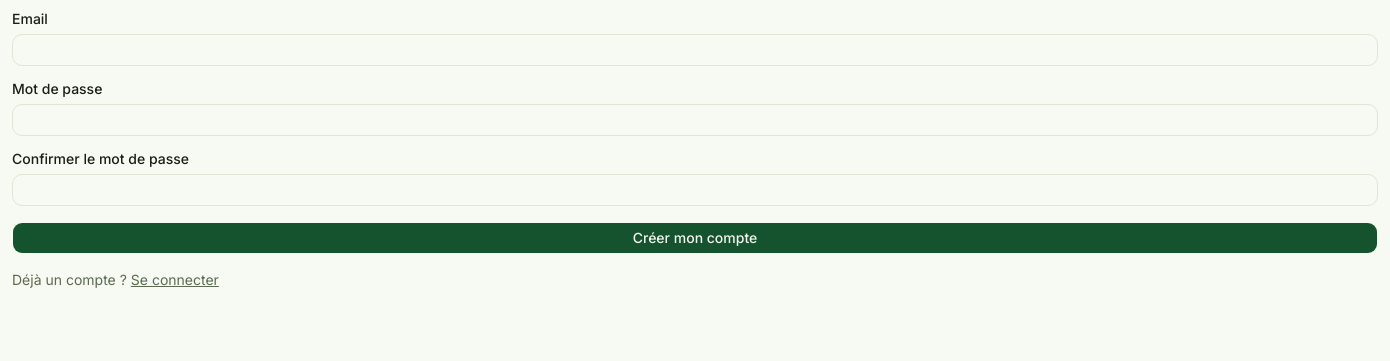
SignupForm › affiche les erreurs de validation
Click the button "Créer mon compte".
click(695, 238)  # box top-left (12, 222), bottom-right (1378, 254)
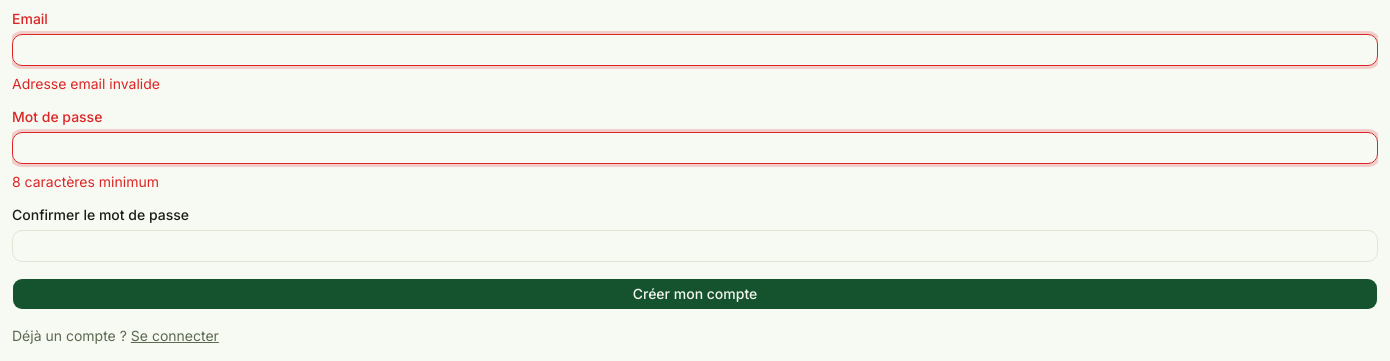
Result: the text "Adresse email invalide" is shown at top-left (12, 75), bottom-right (160, 92)
Result: the text "8 caractères minimum" is shown at top-left (12, 173), bottom-right (159, 190)
